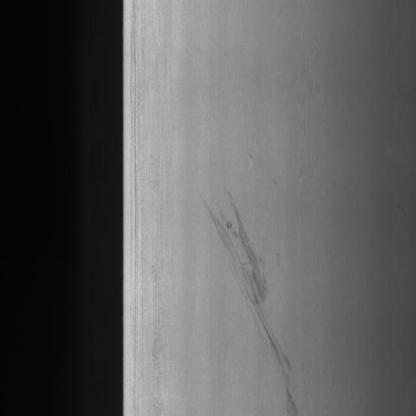water_spot: (200, 175, 317, 416)
